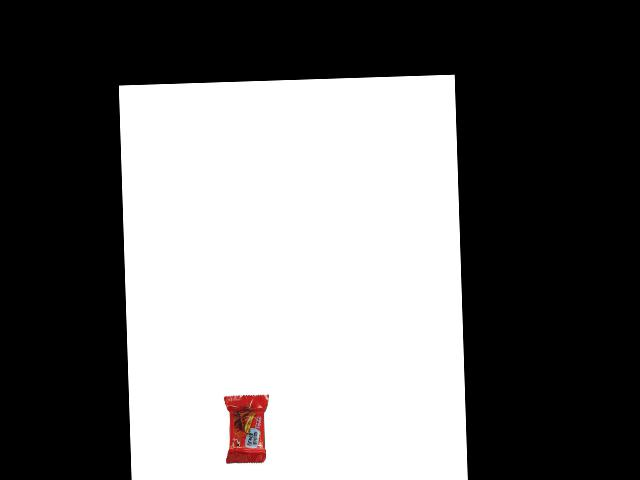chocolate: (224, 393, 275, 470)
